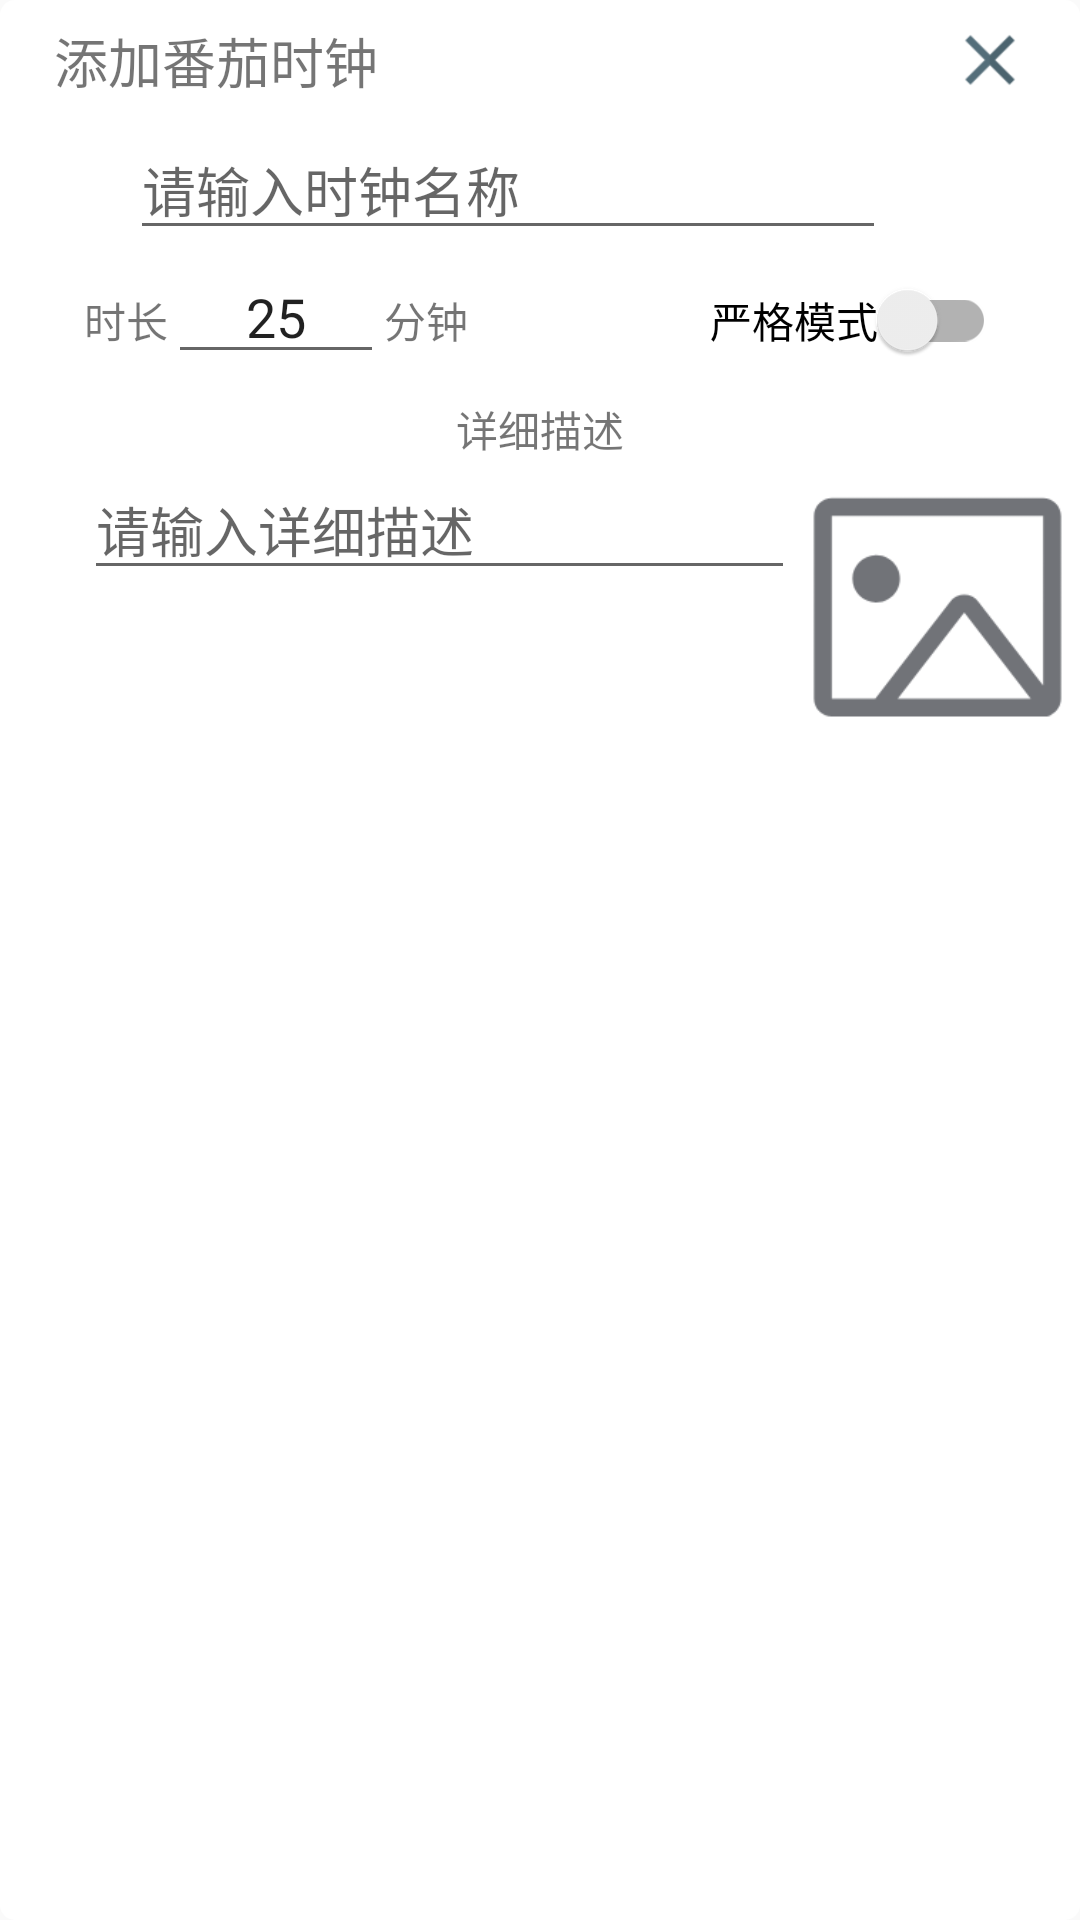

Icon bounding boxes for this 1080x1920 phone screenshot, format [x1, y1, x2, y2]:
close: [965, 35, 1015, 85]
